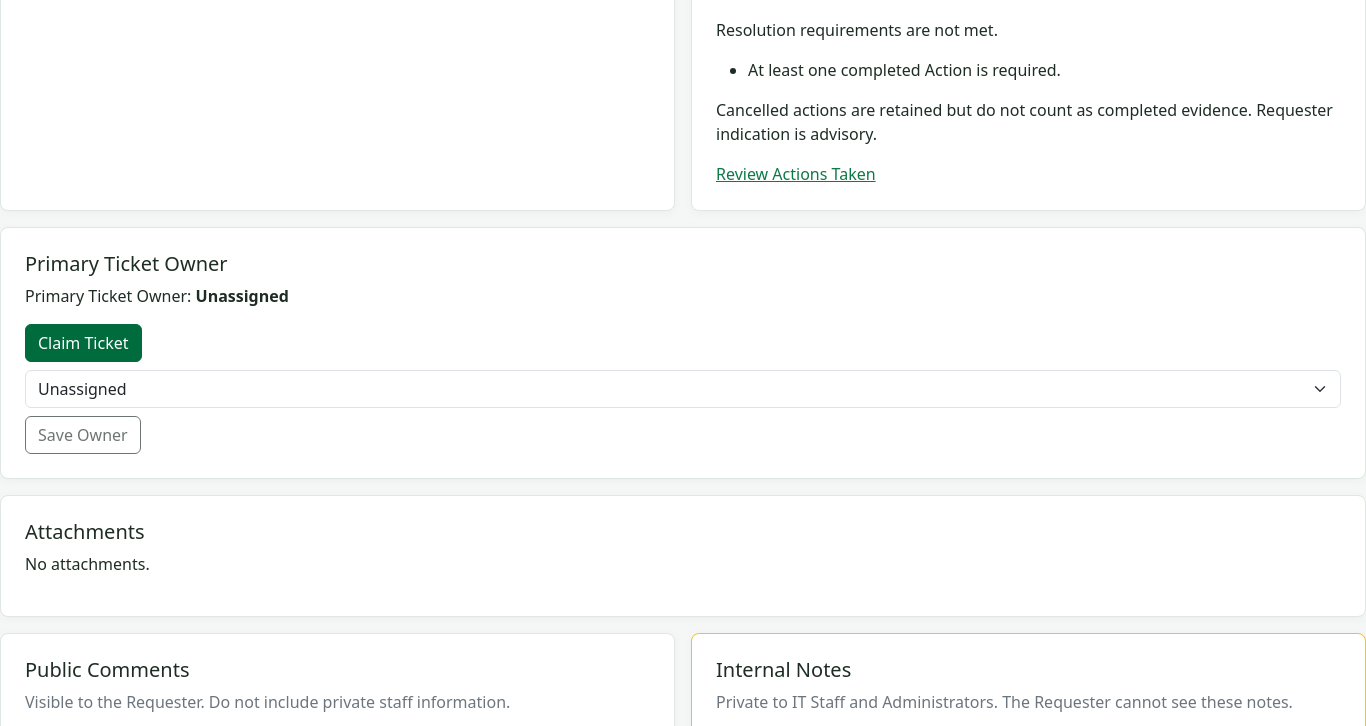
it: Staff Ticket Detail › removes stale private detail and suppresses success when refresh is forbidden
(page scrolled)
What coordinates should you click on to do the following:
click the button "Claim Ticket"
I would click on:
 (83, 343)
Its box is left=25, top=324, right=142, bottom=362.
(page scrolled)
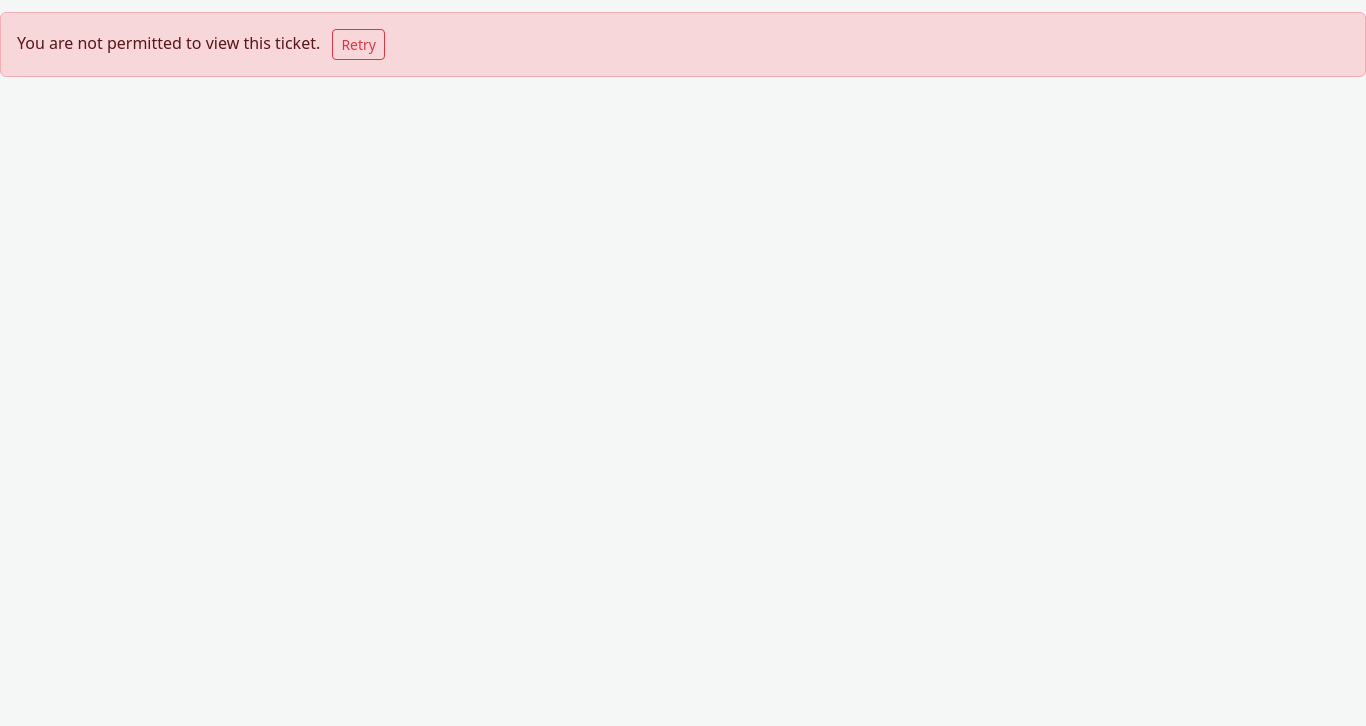
expect the message shows "not permitted": met, box left=17, top=32, right=320, bottom=54
